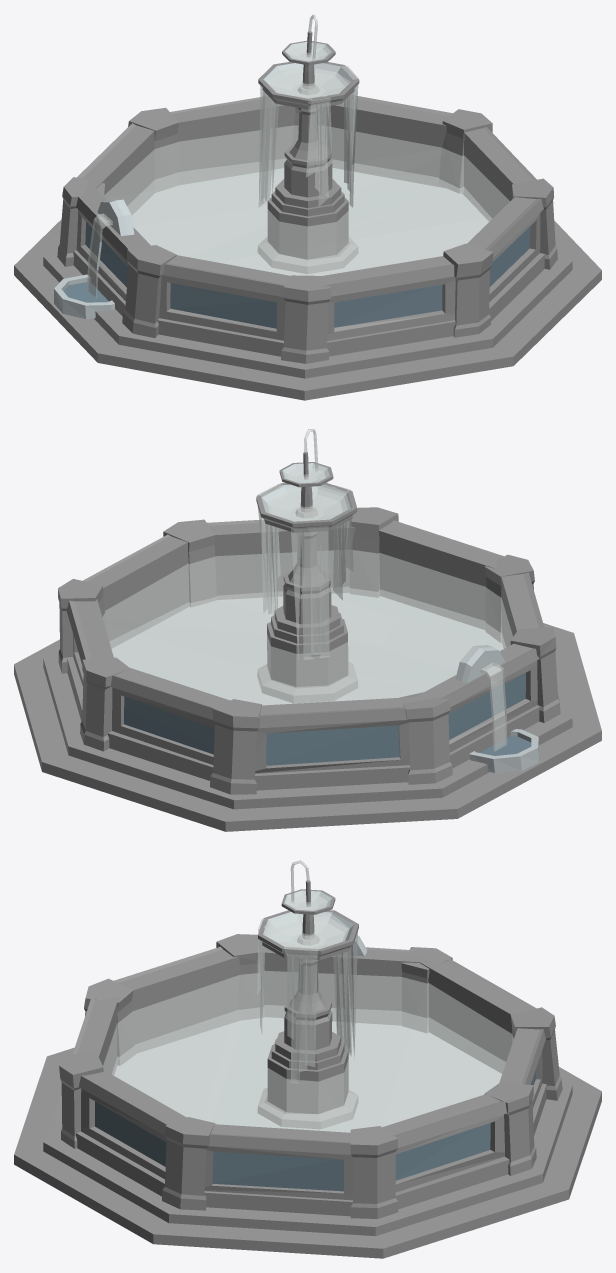
Rendered from fonte.glb.
3 views of the same model, one above another, from view 1: azimuth 30°, elevation 25°; view 2: azimuth 150°, elevation 25°; view 3: azimuth 270°, elevation 25° (orthographic). The views are drawn at different scales.
Visible parts, largest first — view 1: group558070164; view 2: group558070164; view 3: group558070164.
Boxes of the visible parts, x1,y1,x2,y2 form: group558070164: (14, 14, 601, 400); group558070164: (14, 429, 601, 831); group558070164: (14, 860, 601, 1258).
Bounding box in the file's own units: 1.18 × 0.6107 × 1.18.
